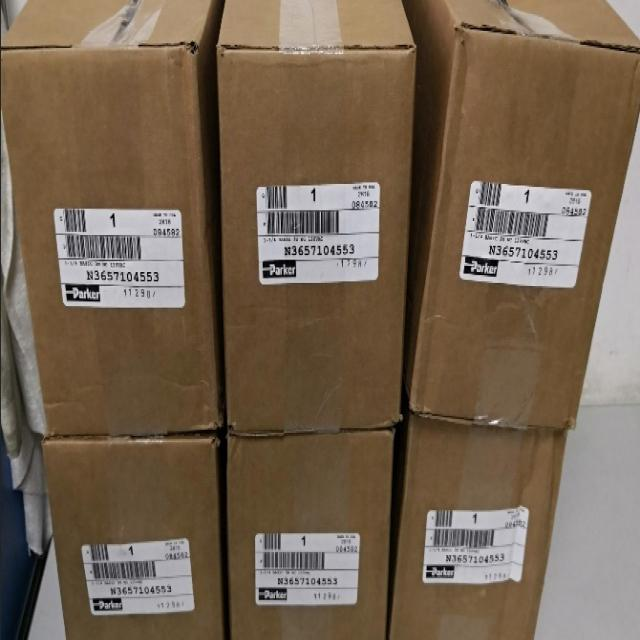box: (402, 1, 639, 435), (0, 1, 222, 438), (217, 2, 415, 436), (387, 379, 568, 638), (42, 434, 226, 638), (226, 431, 393, 638)
